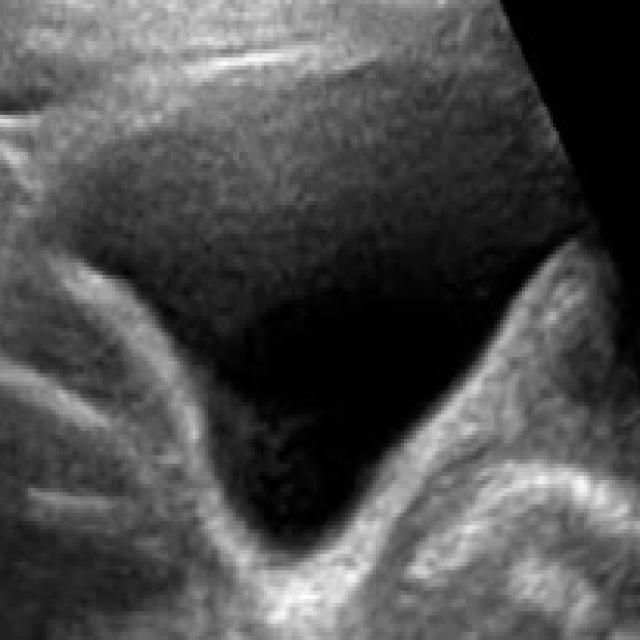bladder: (67, 0, 598, 559)
